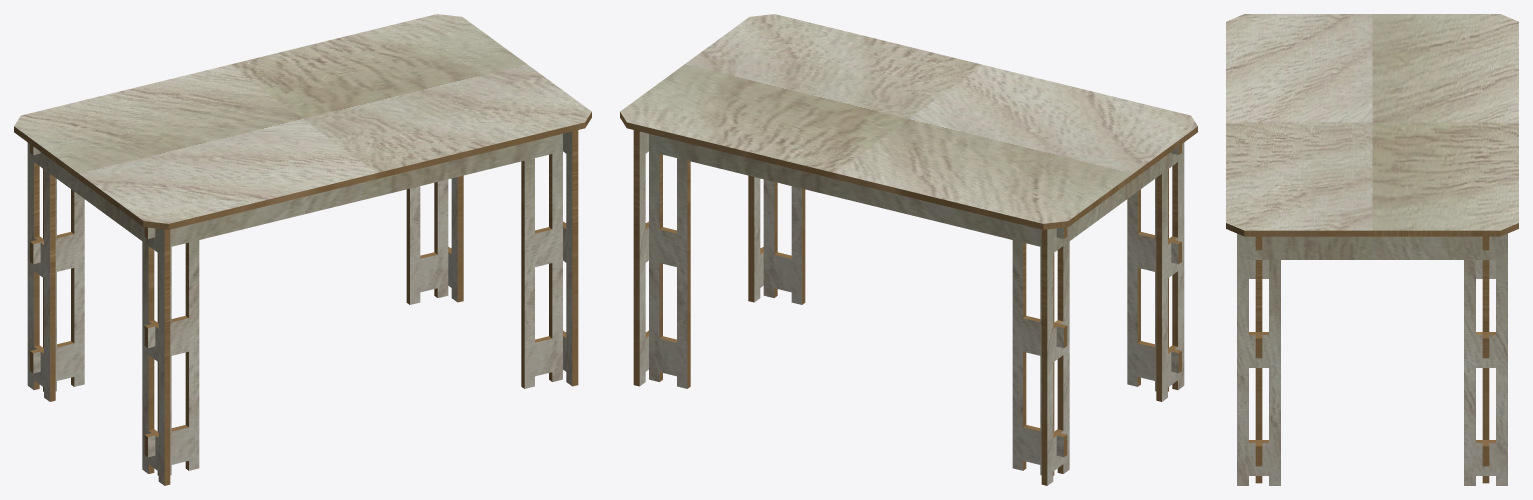
Rendered from NODO_MESA_COMEDOR_PORTICO_KIRI_FAPLAC_REAL.glb.
3 views of the same model, side by side, from view 1: azimuth 30°, elevation 25°; view 2: azimuth 150°, elevation 25°; view 3: azimuth 270°, elevation 25° (orthographic).
Parts seen in each view (by area): view 1: top_faces_8, long_faces_4, short_faces_2, long_faces_6, short_edge_3, top_edge_9, long_edge_5, short_faces_0, short_edge_1, long_edge_7; view 2: top_faces_8, long_faces_6, short_faces_2, long_faces_4, short_edge_3, top_edge_9, long_edge_7, short_faces_0, short_edge_1, long_edge_5; view 3: top_faces_8, short_faces_0, top_edge_9, long_edge_5, long_edge_7, short_faces_2.
Part boxes in pixels (x1=…): top_faces_8: x1=14, y1=14, x2=591, y2=223; long_faces_4: x1=148, y1=134, x2=562, y2=475; short_faces_2: x1=27, y1=142, x2=164, y2=485; long_faces_6: x1=33, y1=146, x2=448, y2=391; short_edge_3: x1=34, y1=162, x2=170, y2=485; top_edge_9: x1=14, y1=112, x2=591, y2=229; long_edge_5: x1=144, y1=154, x2=566, y2=475; short_faces_0: x1=448, y1=131, x2=572, y2=385; short_edge_1: x1=448, y1=130, x2=578, y2=386; long_edge_7: x1=30, y1=144, x2=451, y2=391; top_faces_8: x1=620, y1=14, x2=1197, y2=223; long_faces_6: x1=649, y1=134, x2=1063, y2=475; short_faces_2: x1=1047, y1=142, x2=1184, y2=485; long_faces_4: x1=763, y1=146, x2=1178, y2=391; short_edge_3: x1=1041, y1=162, x2=1177, y2=485; top_edge_9: x1=620, y1=112, x2=1197, y2=229; long_edge_7: x1=645, y1=154, x2=1067, y2=475; short_faces_0: x1=639, y1=131, x2=763, y2=385; short_edge_1: x1=633, y1=130, x2=763, y2=386; long_edge_5: x1=760, y1=144, x2=1181, y2=391; top_faces_8: x1=1226, y1=14, x2=1518, y2=230; short_faces_0: x1=1237, y1=233, x2=1507, y2=485; top_edge_9: x1=1226, y1=223, x2=1518, y2=236; long_edge_5: x1=1255, y1=236, x2=1262, y2=483; long_edge_7: x1=1482, y1=236, x2=1489, y2=483; short_faces_2: x1=1249, y1=260, x2=1495, y2=278.
Size of the model in its own units: 1.4 by 0.795 by 0.8.
2 materials, 2 textured.
